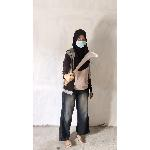Golok: (61, 49, 102, 90)
